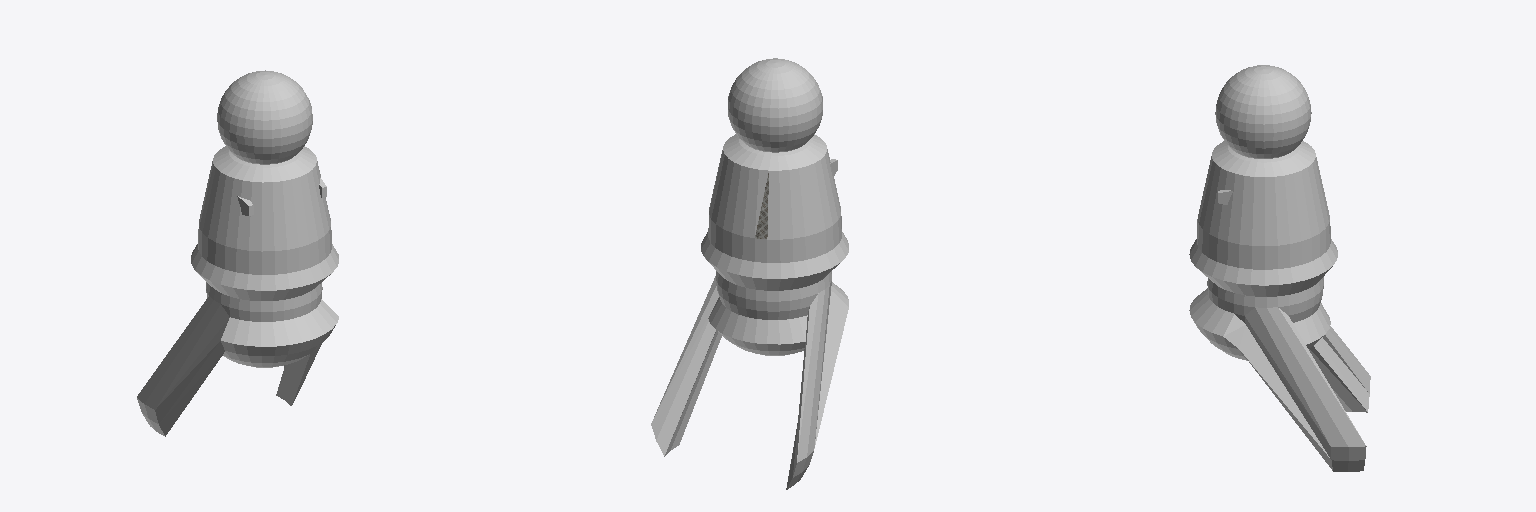
3 renders of one model, left to right at view 1: azimuth 30°, elevation 25°; view 2: azimuth 150°, elevation 25°; view 3: azimuth 270°, elevation 25°, orthographic.
Parts seen in each view (by area): view 1: Sphere; view 2: Sphere; view 3: Sphere.
Boxes of the visible parts, x1,y1,x2,y2 form: Sphere: [137, 70, 338, 436]; Sphere: [651, 58, 848, 489]; Sphere: [1189, 65, 1370, 471].
Bounding box in the file's own units: 1.86 × 4.39 × 1.93.
2 materials, 1 textured.